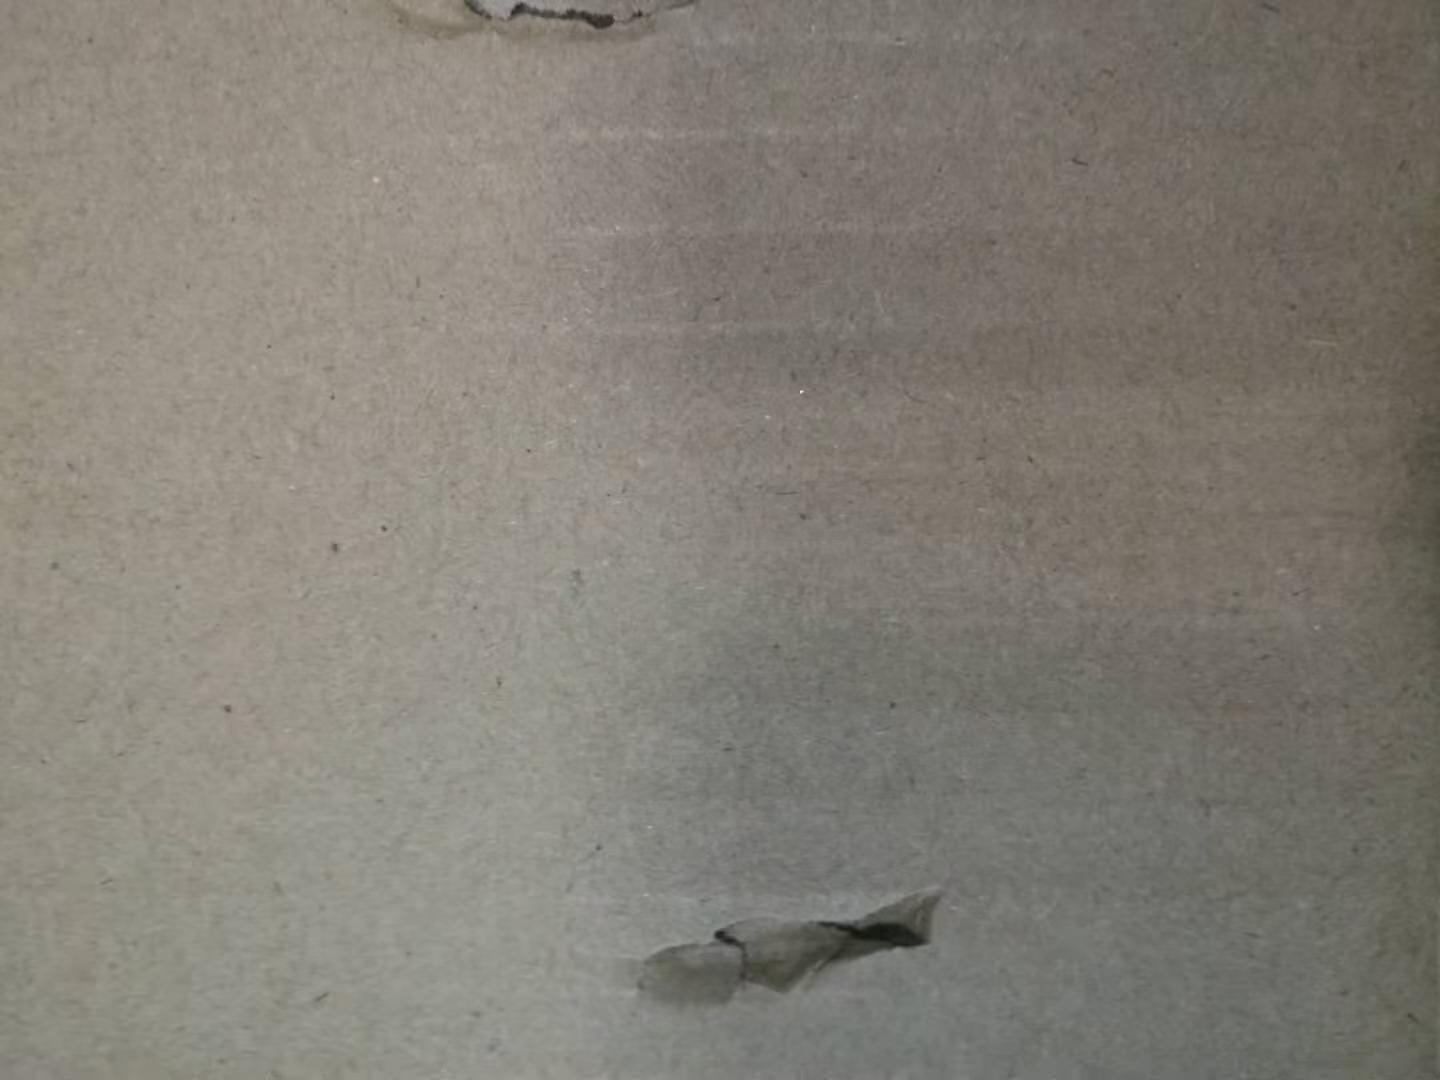defect: (573, 843, 986, 1043), (361, 1, 728, 88)
